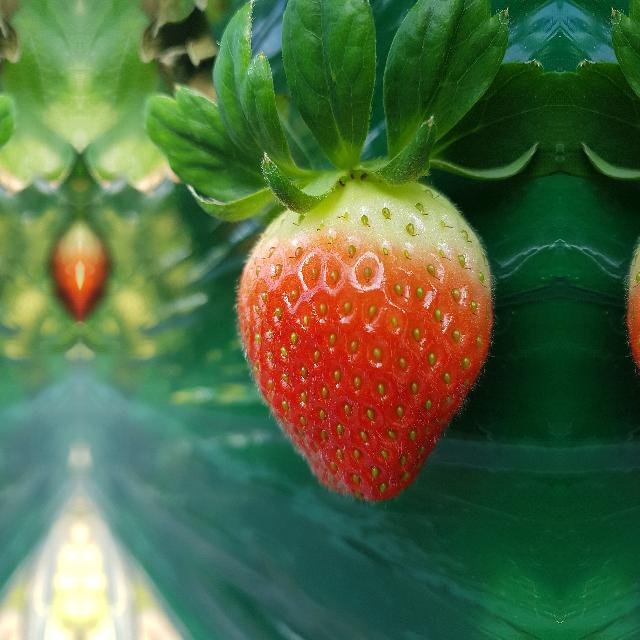Health_75: (233, 170, 494, 504)
